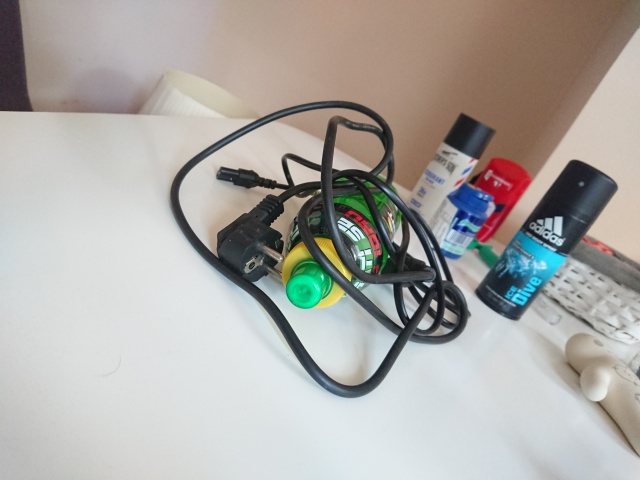Vindi Iso Sport Lemon-Grapefruit 500mL: (277, 169, 406, 312)
